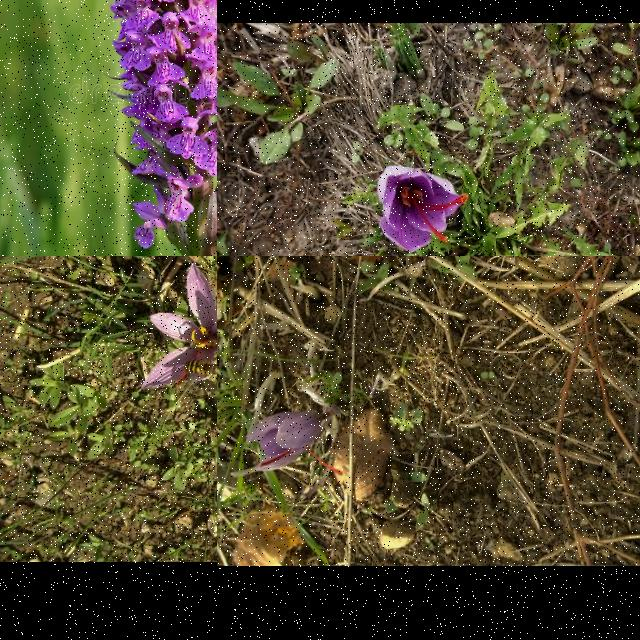flower: (139, 263, 217, 392), (377, 164, 469, 253), (250, 411, 344, 475)
